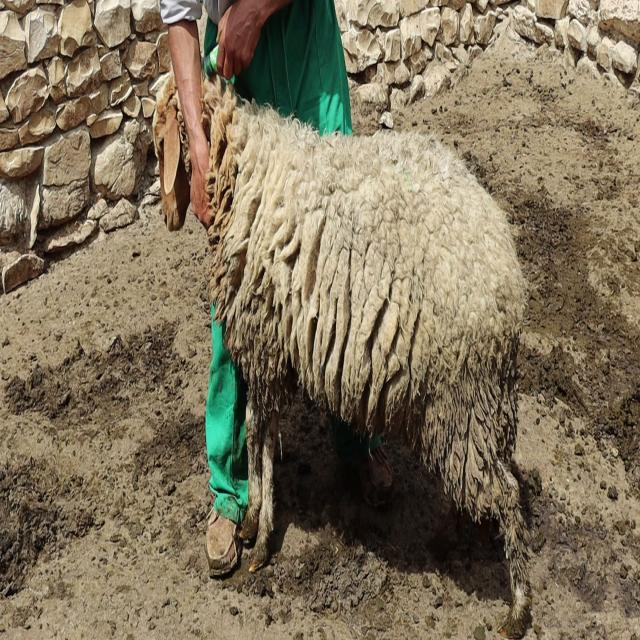Score_4: (201, 78, 530, 636)
